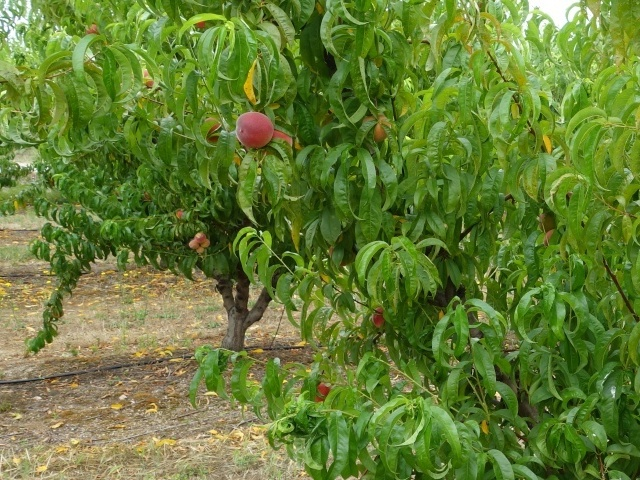peach: (231, 109, 277, 151), (263, 120, 297, 157), (359, 110, 395, 143), (308, 379, 332, 406), (367, 303, 392, 328)
